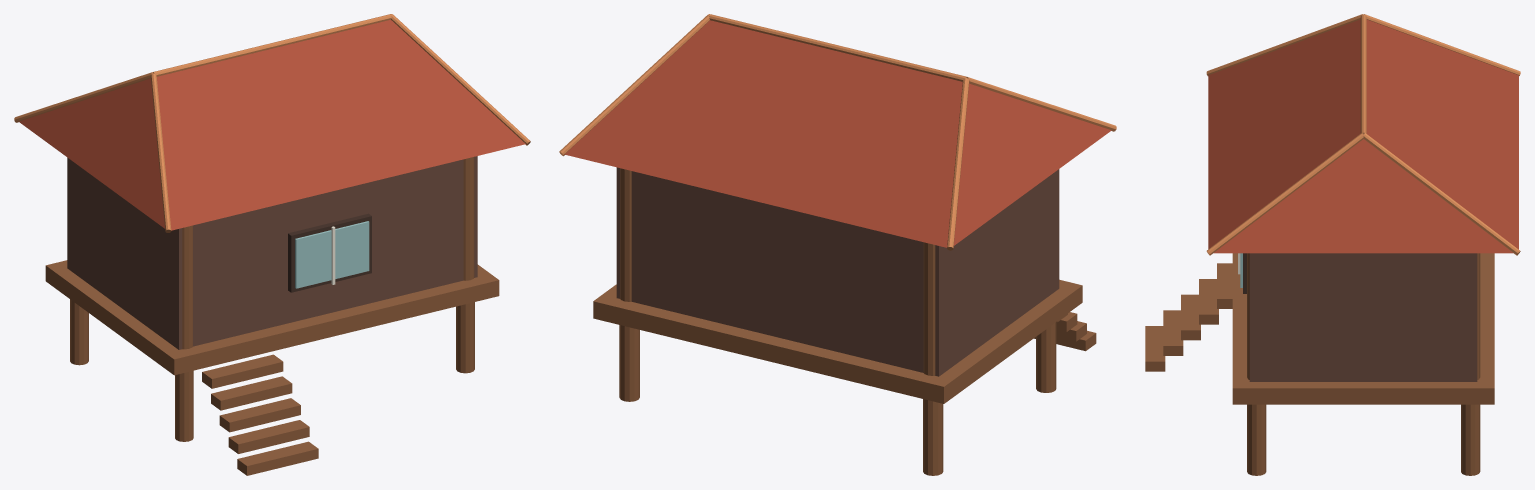
File: 010_raised_granary.glb
3 renders of one model, left to right at view 1: azimuth 30°, elevation 25°; view 2: azimuth 150°, elevation 25°; view 3: azimuth 270°, elevation 25°, orthographic. The views are drawn at different scales.
Visible parts, largest first — view 1: Raised granary; view 2: Raised granary; view 3: Raised granary.
Part boxes in pixels (x1,y1,x2,y2): Raised granary: (14, 14, 530, 475); Raised granary: (559, 14, 1116, 475); Raised granary: (1145, 14, 1520, 475).
Size of the model in its own units: 6.23 by 5.26 by 5.44.
